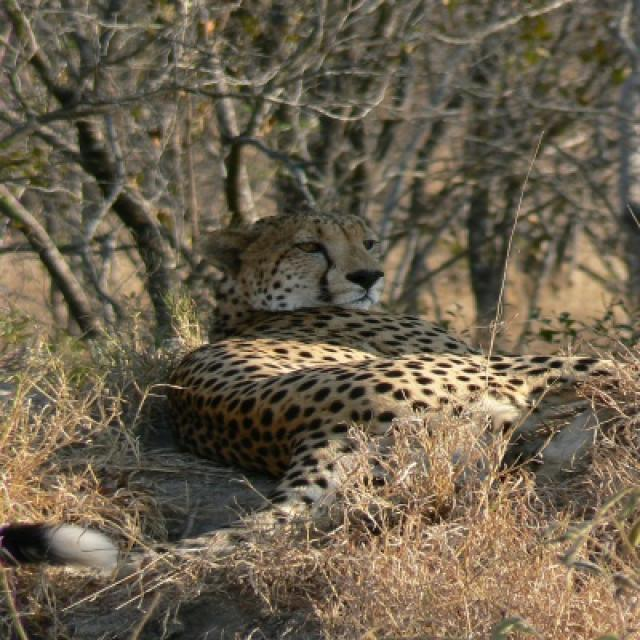Cheetah: (149, 213, 578, 517)
